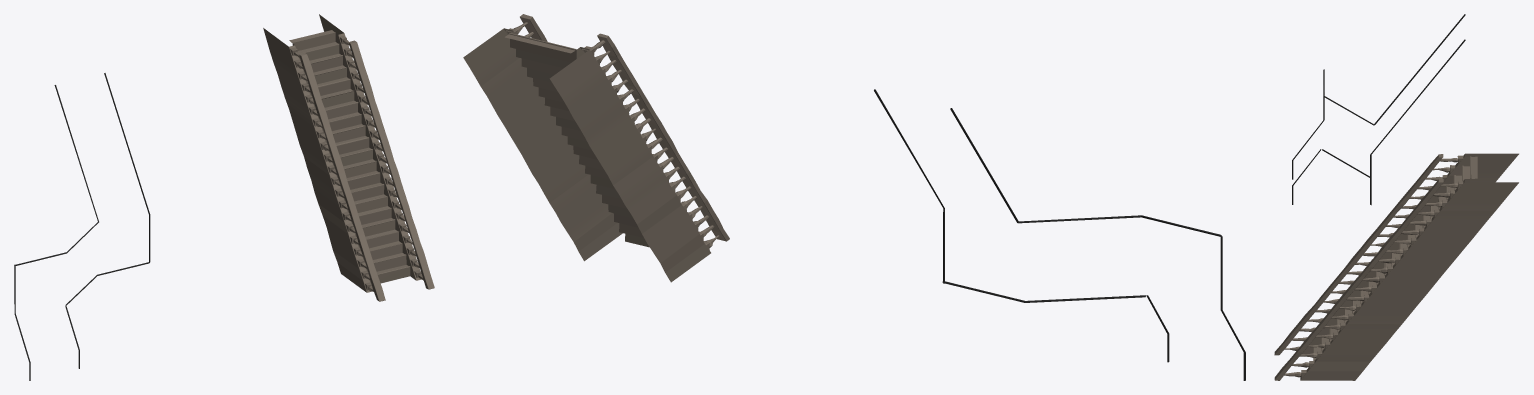
Rendered from OldStairs.glb.
The picture shows the model from 3 angles, left to right: view 1: azimuth 30°, elevation 25°; view 2: azimuth 150°, elevation 25°; view 3: azimuth 270°, elevation 25°; orthographic projection. The views are drawn at different scales.
Visible parts, largest first — view 1: OldStairs; view 2: OldStairs; view 3: OldStairs.
Part boxes in pixels (x1,y1,x2,y2): OldStairs: (14,14,434,380); OldStairs: (463,14,1245,380); OldStairs: (1274,14,1518,380).
Bounding box in the file's own units: 18.5 × 9.33 × 9.4.
Materials: 1 (1 with a texture image).
